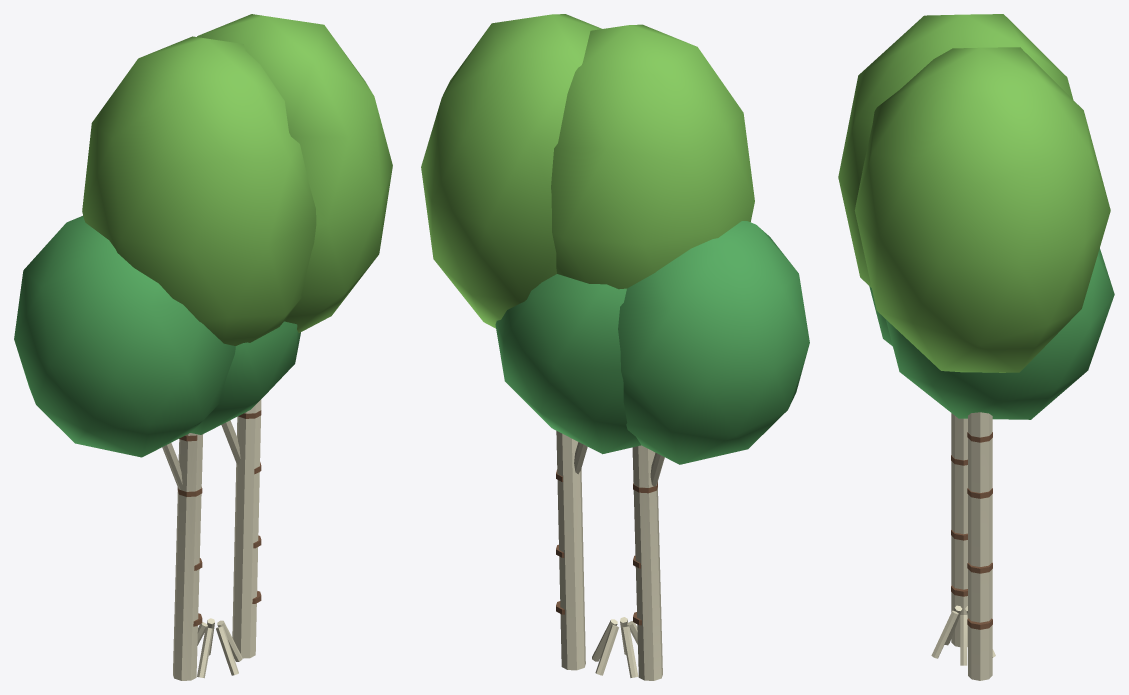
File: tree-birch.glb
3 renders of one model, left to right at view 1: azimuth 30°, elevation 25°; view 2: azimuth 150°, elevation 25°; view 3: azimuth 270°, elevation 25°, orthographic. The views are drawn at different scales.
Parts seen in each view (by area): view 1: rounded crown.001, rounded crown, branch, birch bark; view 2: rounded crown.001, rounded crown, branch; view 3: rounded crown.001, rounded crown, branch, birch bark.
Part boxes in pixels (<box>): rounded crown.001: <box>82,14,392,345</box>; rounded crown: <box>14,216,300,457</box>; branch: <box>162,399,261,680</box>; birch bark: <box>177,410,261,626</box>; rounded crown.001: <box>421,14,754,328</box>; rounded crown: <box>495,221,809,464</box>; branch: <box>556,431,664,680</box>; rounded crown.001: <box>838,14,1110,372</box>; rounded crown: <box>869,248,1114,419</box>; branch: <box>931,412,995,680</box>; birch bark: <box>951,432,992,629</box>.
Bounding box in the file's own units: 1.93 × 3.41 × 1.34.
